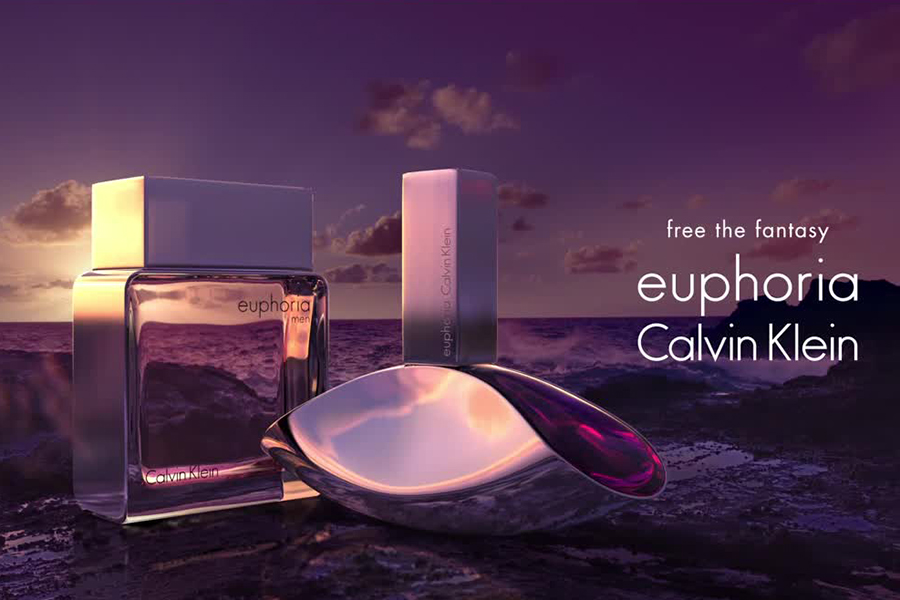Calvin Klein: (634, 317, 866, 367), (143, 460, 224, 489), (438, 219, 460, 299)
